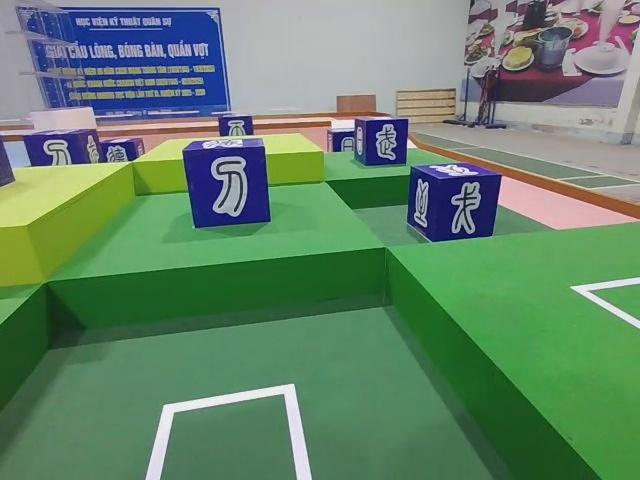R2 Fake Blue: (180, 136, 271, 230), (405, 165, 501, 245), (24, 130, 103, 169), (351, 118, 406, 170), (99, 136, 145, 172), (219, 114, 257, 148), (325, 127, 358, 155)
